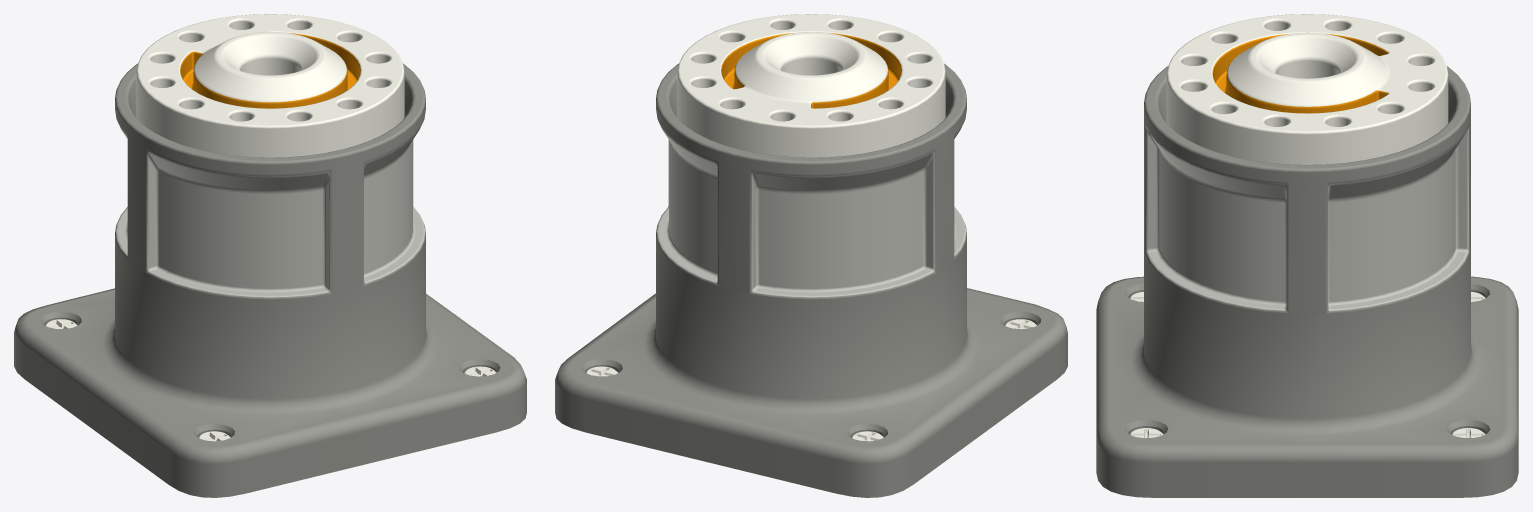
File: Other #2.fbx
3 views of the same model, side by side, from view 1: azimuth 30°, elevation 25°; view 2: azimuth 150°, elevation 25°; view 3: azimuth 270°, elevation 25° (orthographic). The views are drawn at different scales.
Visible parts, largest first — view 1: kitbash_96; view 2: kitbash_96; view 3: kitbash_96.
Boxes of the visible parts, box(x1,y1,x2,y2) form: kitbash_96: box(14, 14, 526, 497); kitbash_96: box(555, 14, 1067, 497); kitbash_96: box(1096, 14, 1518, 497).
Size of the model in its own units: 2.55 by 2.34 by 2.55.
